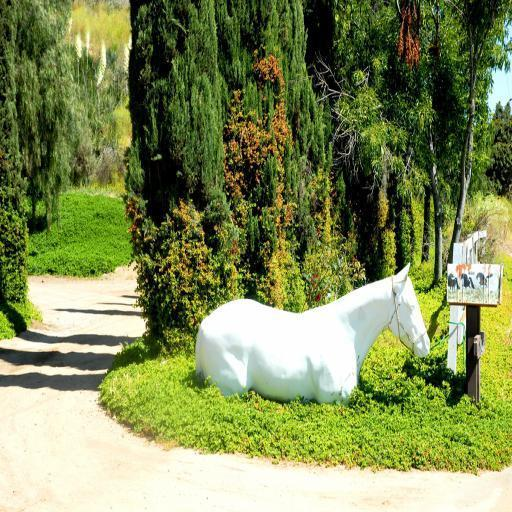horse: (192, 260, 430, 394)
